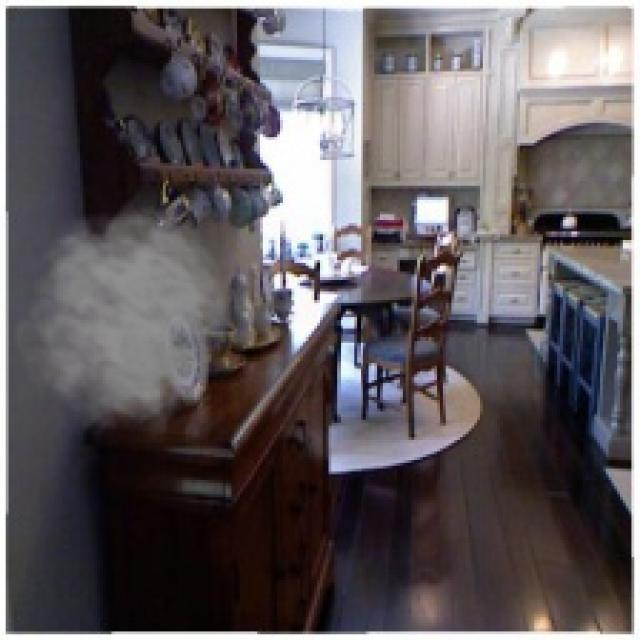Smoke: (12, 200, 235, 443)
